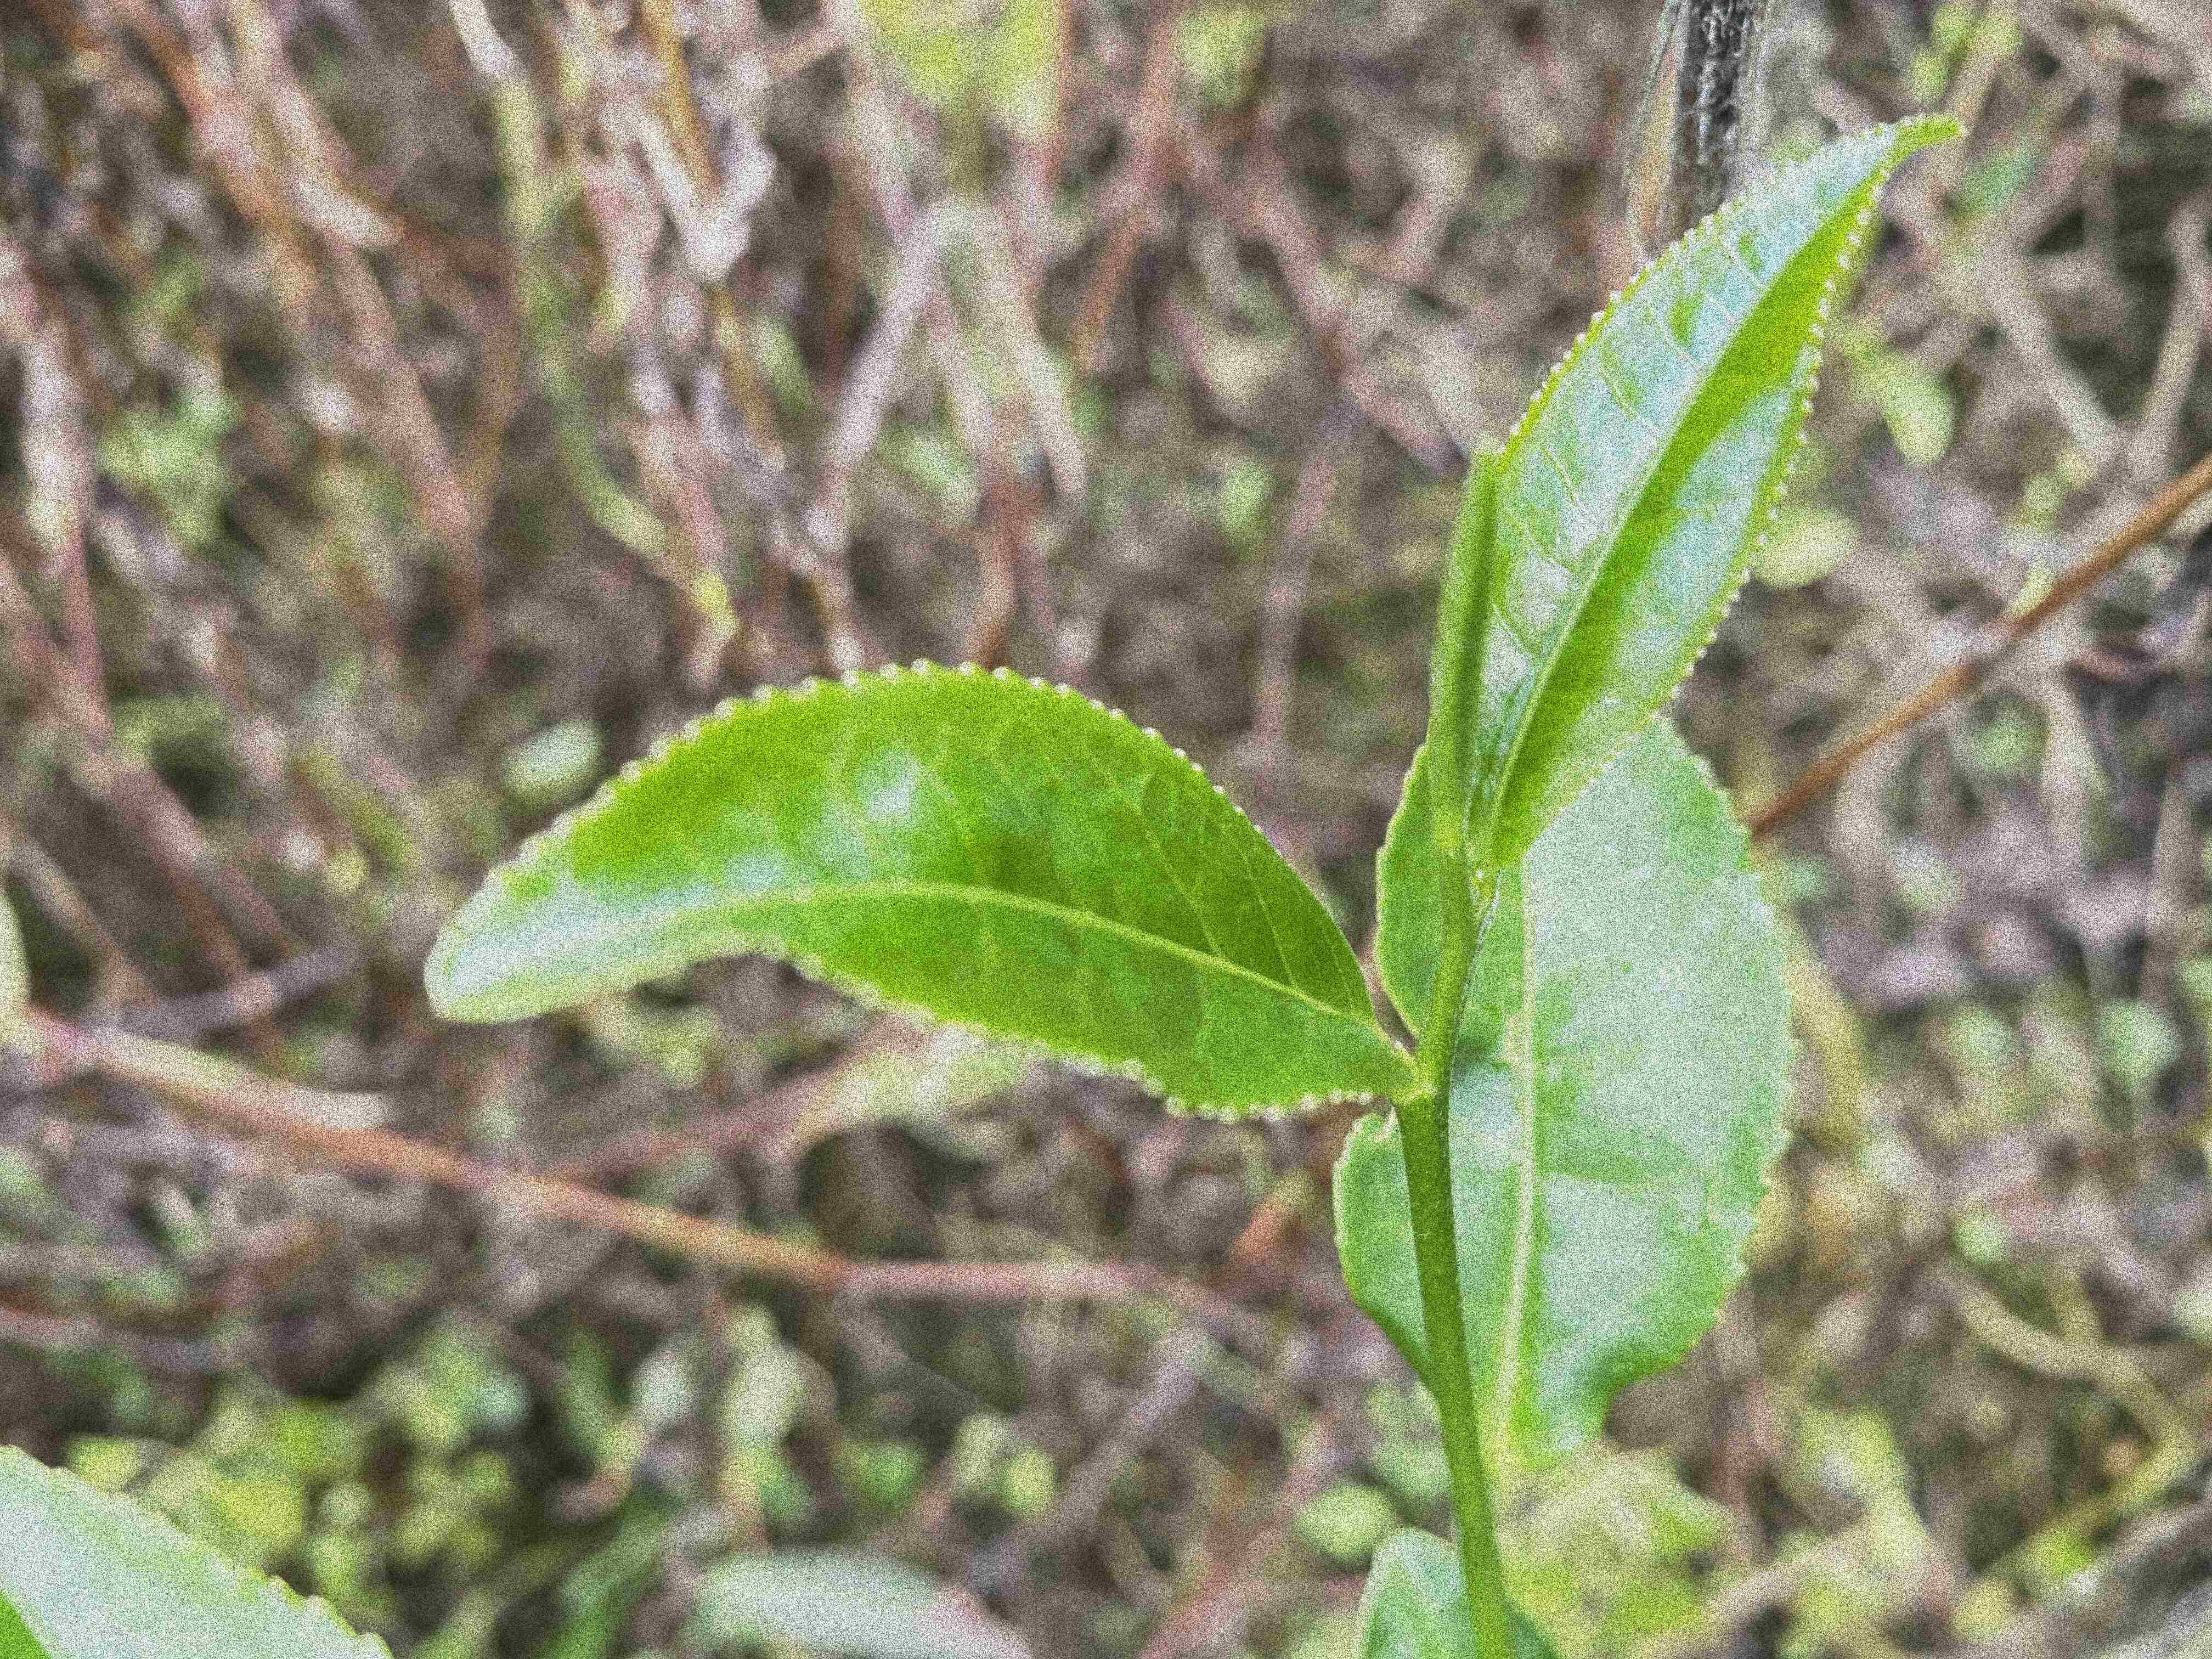healthy: (421, 655, 1400, 1126), (1467, 112, 1970, 868)
